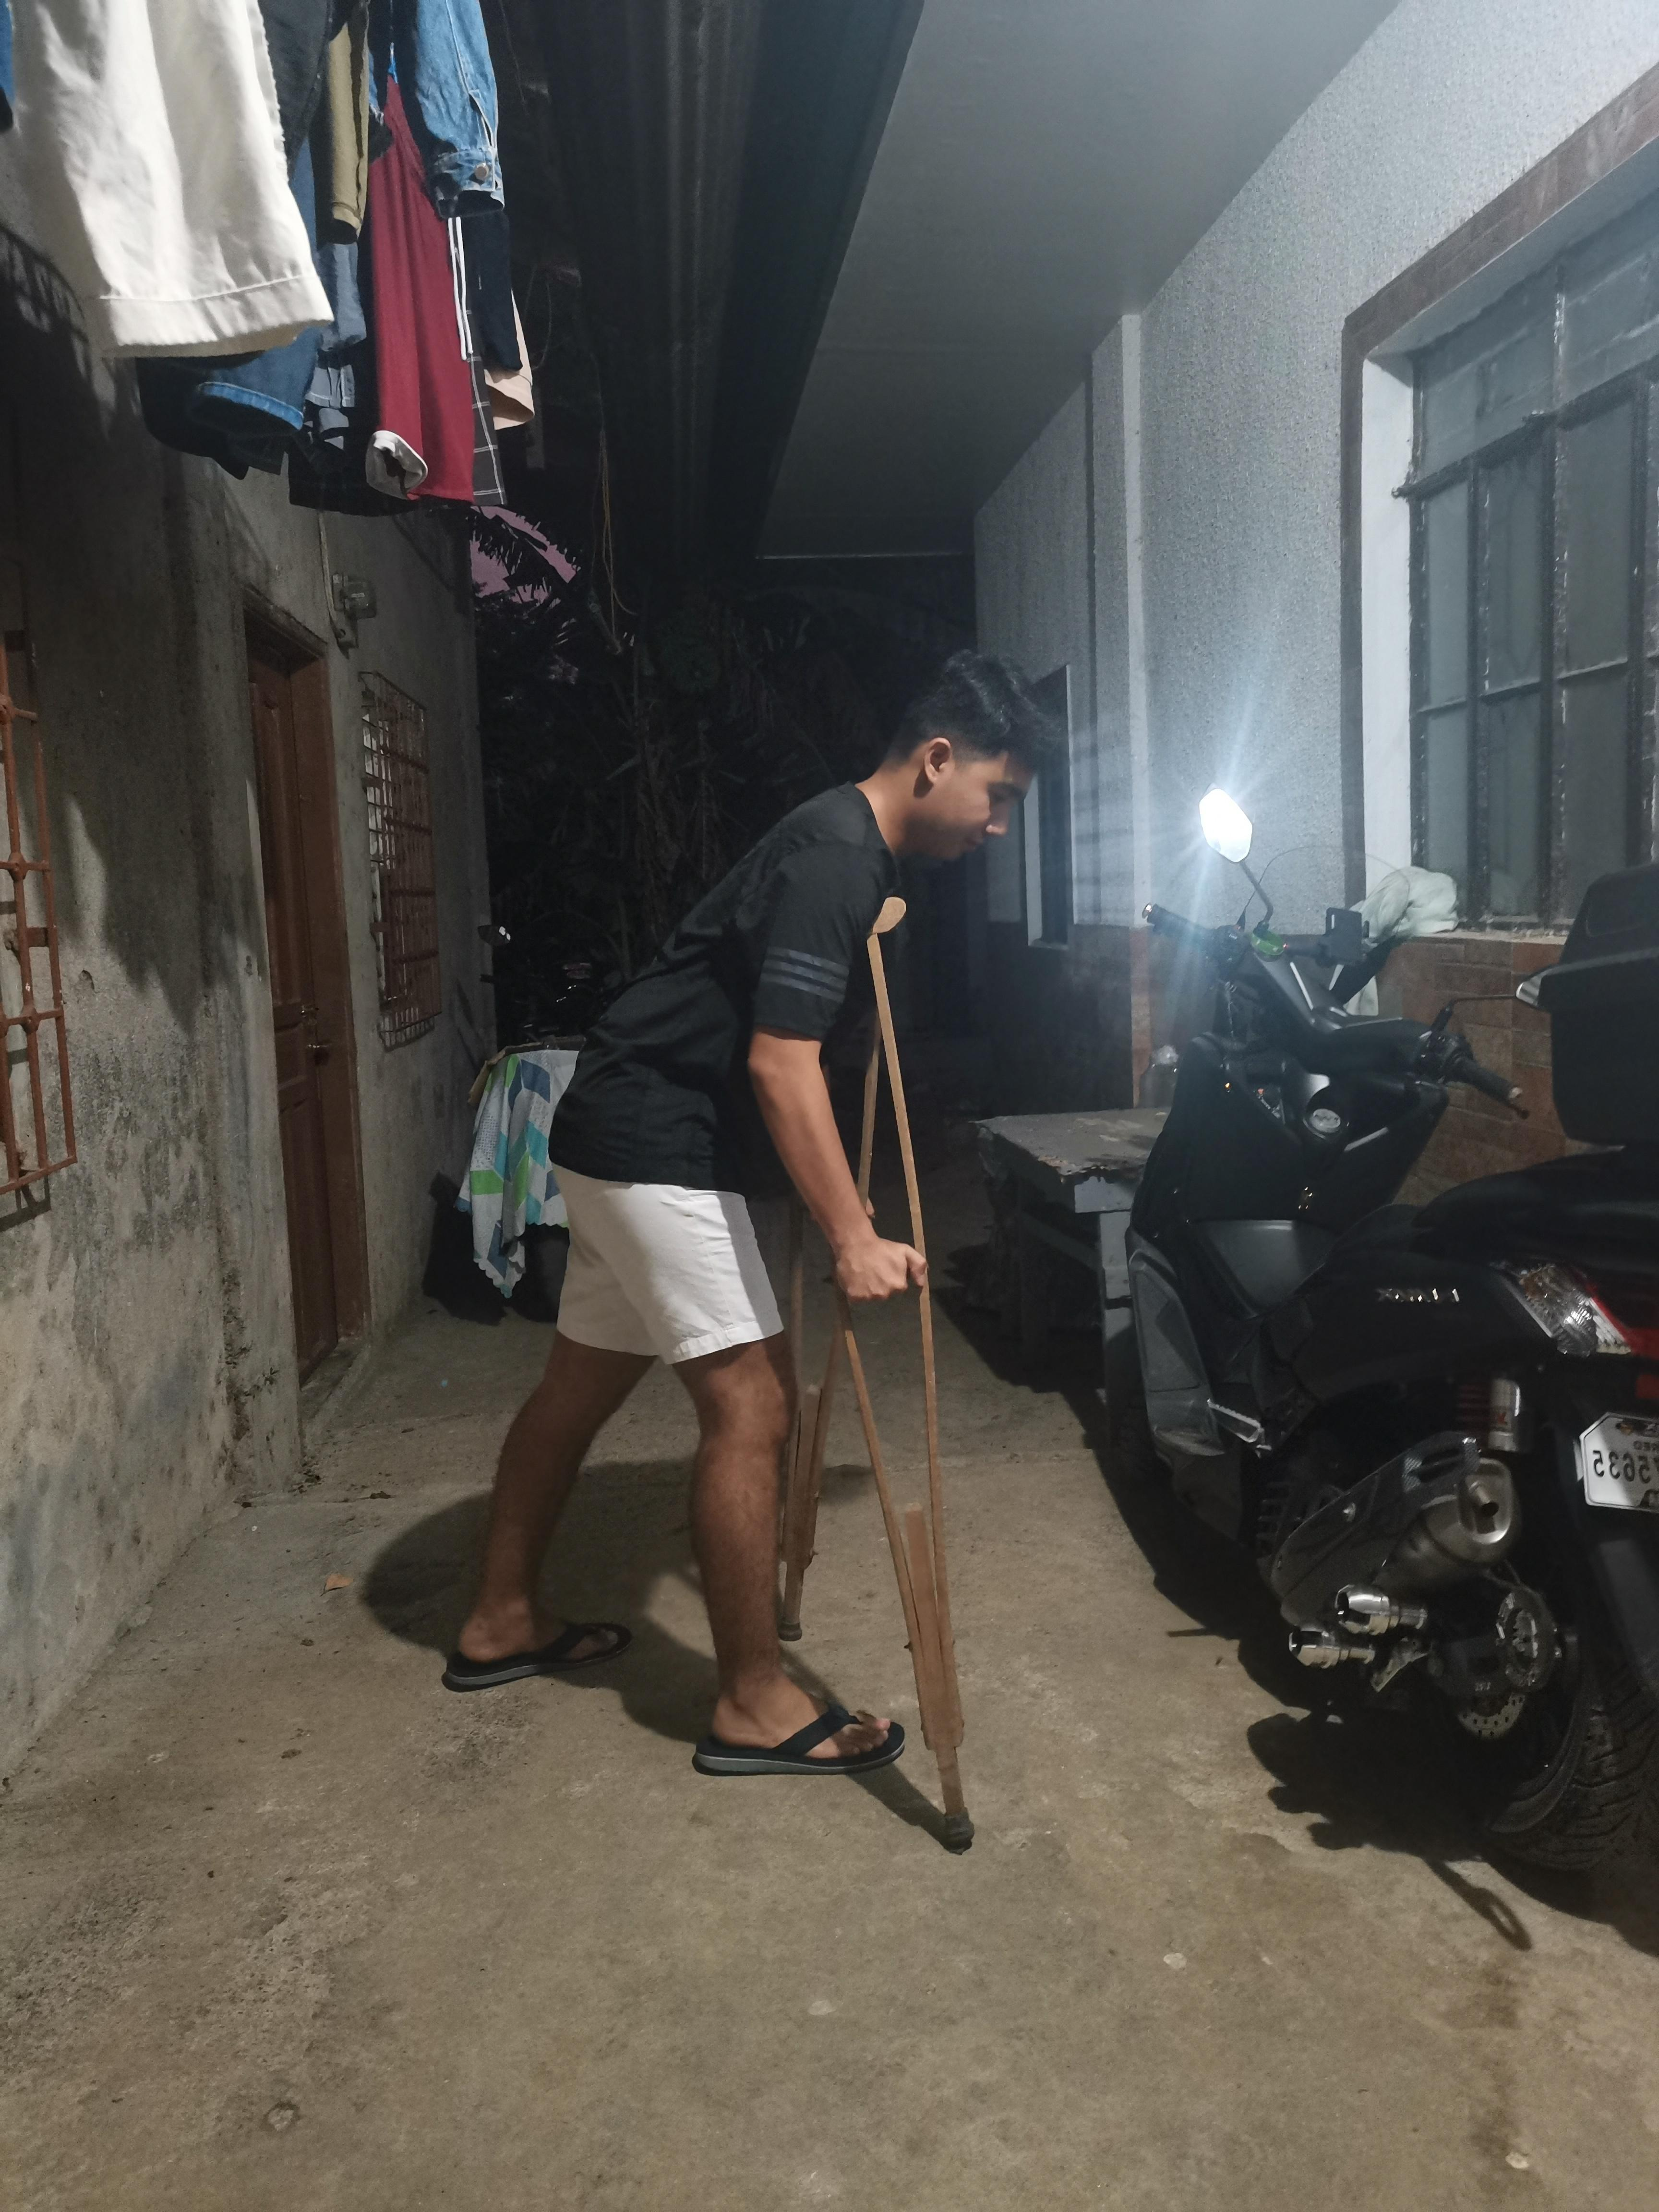crutches: (446, 646, 1047, 1846)
